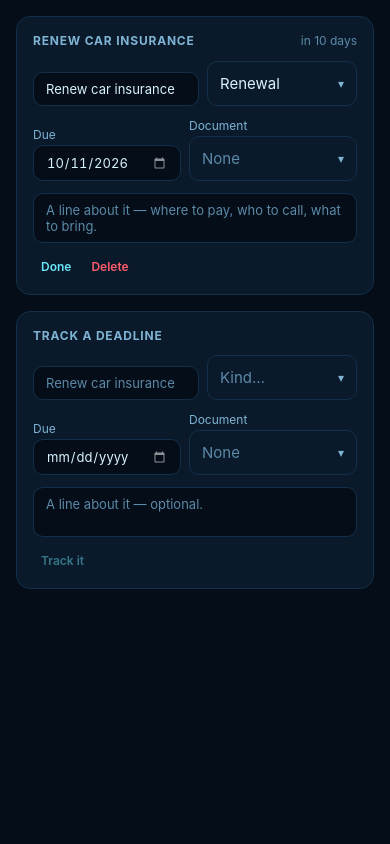
Test: an open deadline › says why Done was refused, on its card
The image size is (390, 844).
Click the button with aria-label "Mark Renew car insurance done" at coordinates (56, 266), box [33, 255, 79, 278]
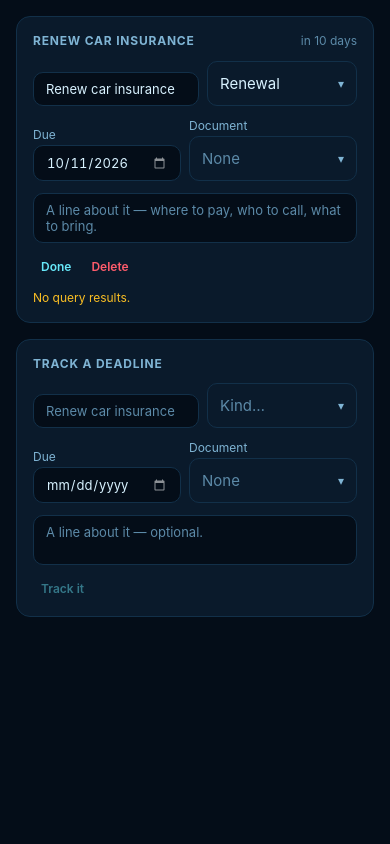
Now the text "No query results." is shown, box [33, 290, 130, 305]
